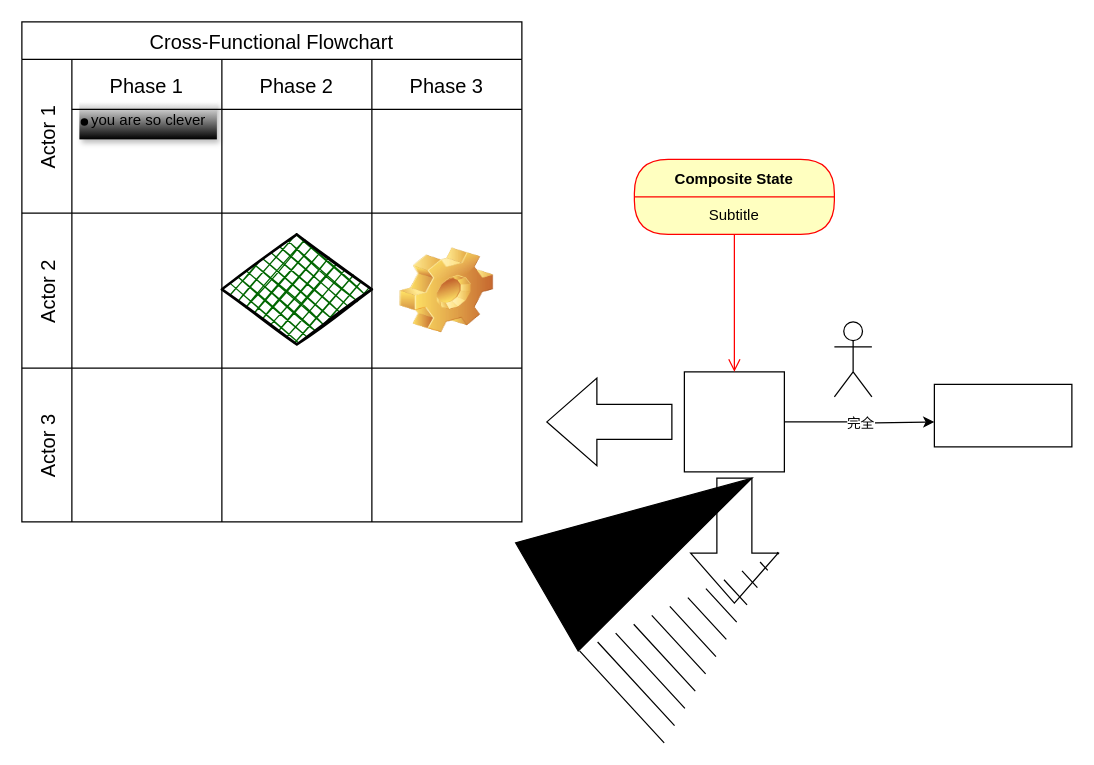
The diagram is 1094 pixels wide and 765 high, and some of its shapes have lost their labels. The centre of each missing label's shape, as x and y in pixels:
"Actor" goes at (x=852, y=359).
"Object" goes at (x=1002, y=415).
